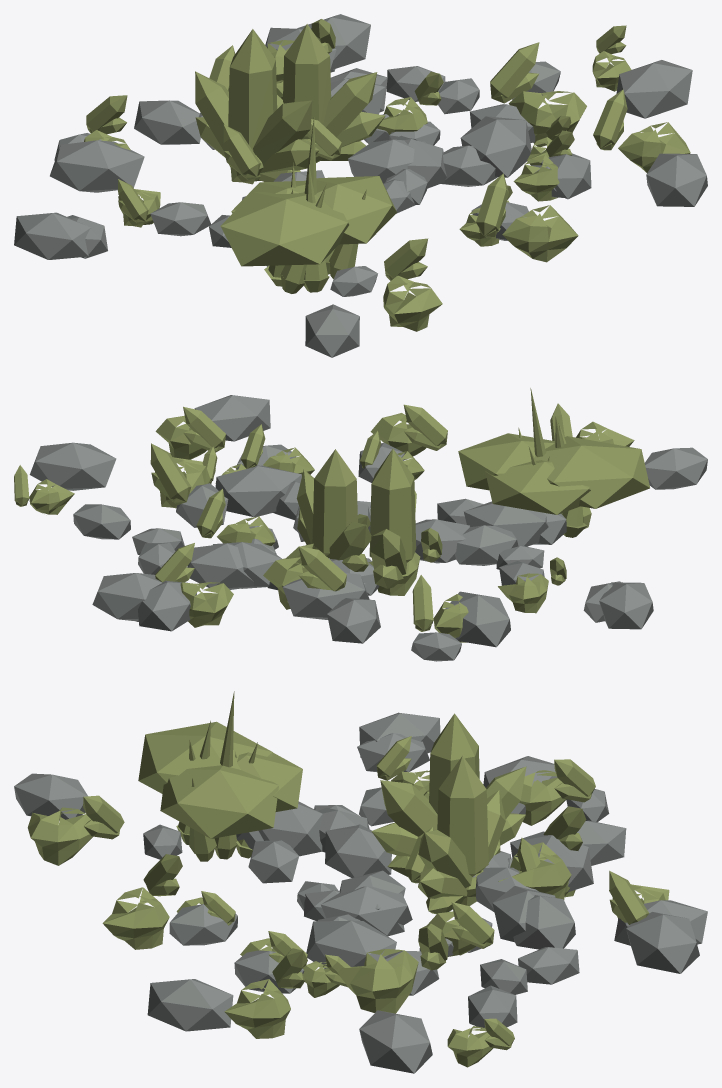
The model's file is uranium_large.glb.
3 renders of one model, top to bottom at view 1: azimuth 30°, elevation 25°; view 2: azimuth 150°, elevation 25°; view 3: azimuth 270°, elevation 25°, orthographic. The views are drawn at different scales.
Visible parts, largest first — view 1: crystal-spire.002; view 2: crystal-spire.002; view 3: crystal-spire.002.
Part boxes in pixels (bbox=[...]): crystal-spire.002: bbox=[14, 14, 707, 357]; crystal-spire.002: bbox=[14, 388, 707, 661]; crystal-spire.002: bbox=[14, 691, 707, 1073].
Size of the model in its own units: 8.73 by 1.98 by 7.52.
